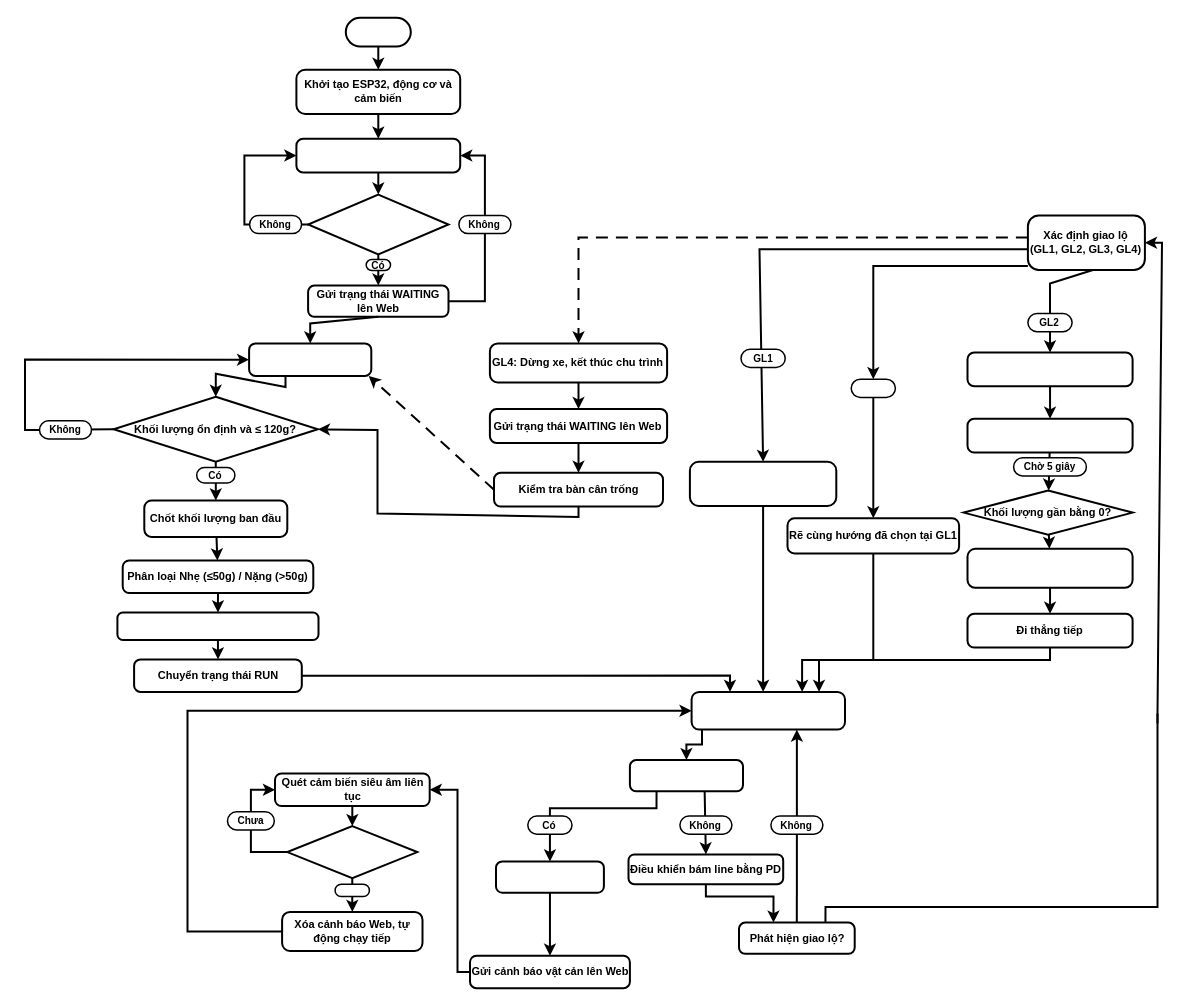
This 1188x1007 diagram has some shape labels left out. The centre of each missing label's shape, as x and y in pixels:
BẮT ĐẦU: (x=377, y=31)
Dừng xe an toàn: (x=549, y=876)
GL1: Rẽ trái về Kho 1 (Nhẹ) / Rẽ phải về Kho 2 (Nặng): (x=762, y=483)
GL2: Dừng xe tại vị trí đổ hàng: (x=1049, y=369)
GL3: (x=873, y=388)
Gửi khối lượng lên Web & Chờ ACK: (x=217, y=625)
Hết vật cản?: (x=352, y=852)
Kết nối thành công?: (x=378, y=224)
Kết nối Wi-Fi và Flask Server: (x=378, y=155)
Phát hiện vật cản?: (x=686, y=775)
Rời: (x=352, y=890)
Trừ bì và Đọc khối lượng HX711: (x=310, y=359)
Xe khởi hành, bật cảm biến line và vật cản: (x=768, y=710)
Xác nhận giao hàng thành công lên Flask: (x=1049, y=567)
Đọc lại khối lượng bằng HX711: (x=1049, y=435)
